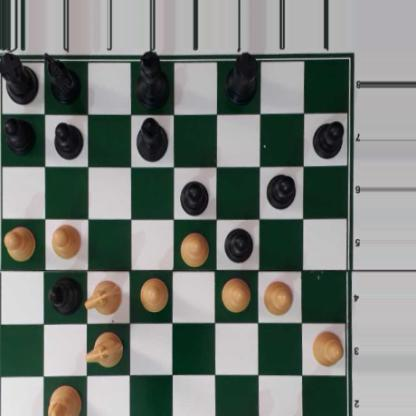black-bishop: (136, 117, 169, 163), (50, 274, 82, 315)
black-king: (135, 50, 170, 110)
black-knight: (43, 54, 80, 102)
black-pawn: (312, 119, 345, 159), (180, 177, 211, 216), (4, 116, 36, 153), (223, 225, 253, 264), (52, 119, 81, 159), (266, 172, 297, 209)
black-rook: (0, 48, 39, 104), (224, 51, 259, 104)
white-bishop: (46, 384, 82, 416)
white-knight: (86, 330, 123, 369), (84, 279, 123, 315)
white-pawn: (310, 329, 344, 368), (262, 276, 293, 316), (179, 232, 210, 268), (4, 225, 35, 261), (221, 276, 251, 312), (51, 223, 81, 259), (138, 277, 168, 311)
